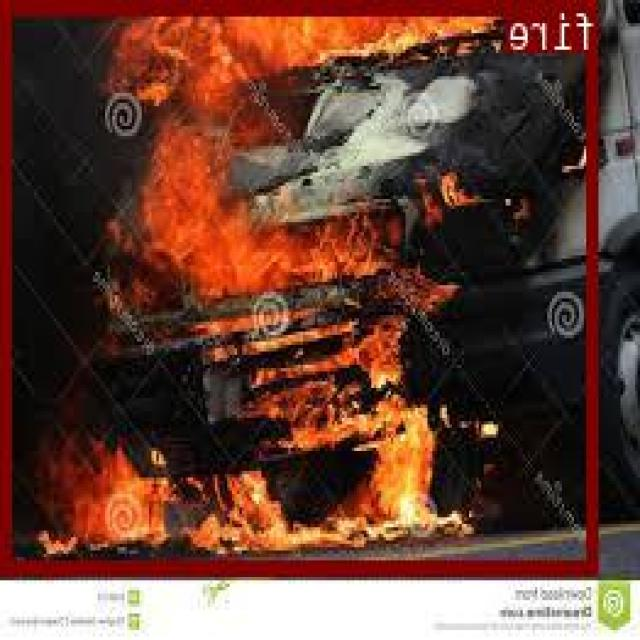fire: (5, 0, 601, 570)
